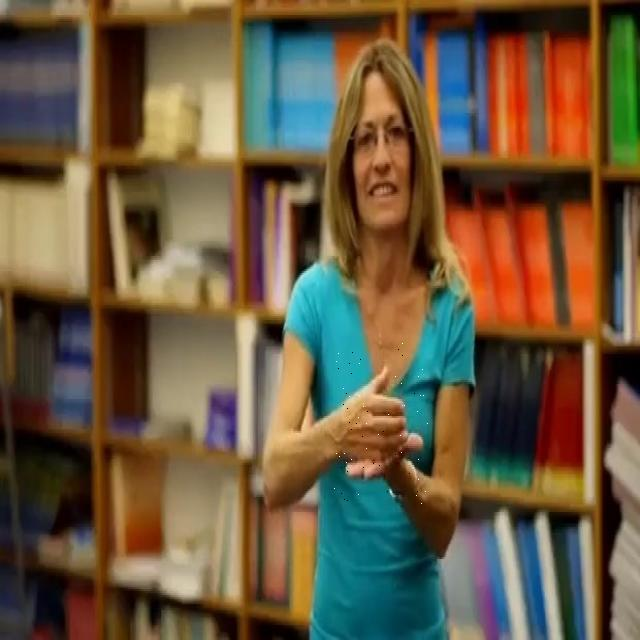cup: (334, 342, 428, 508)
